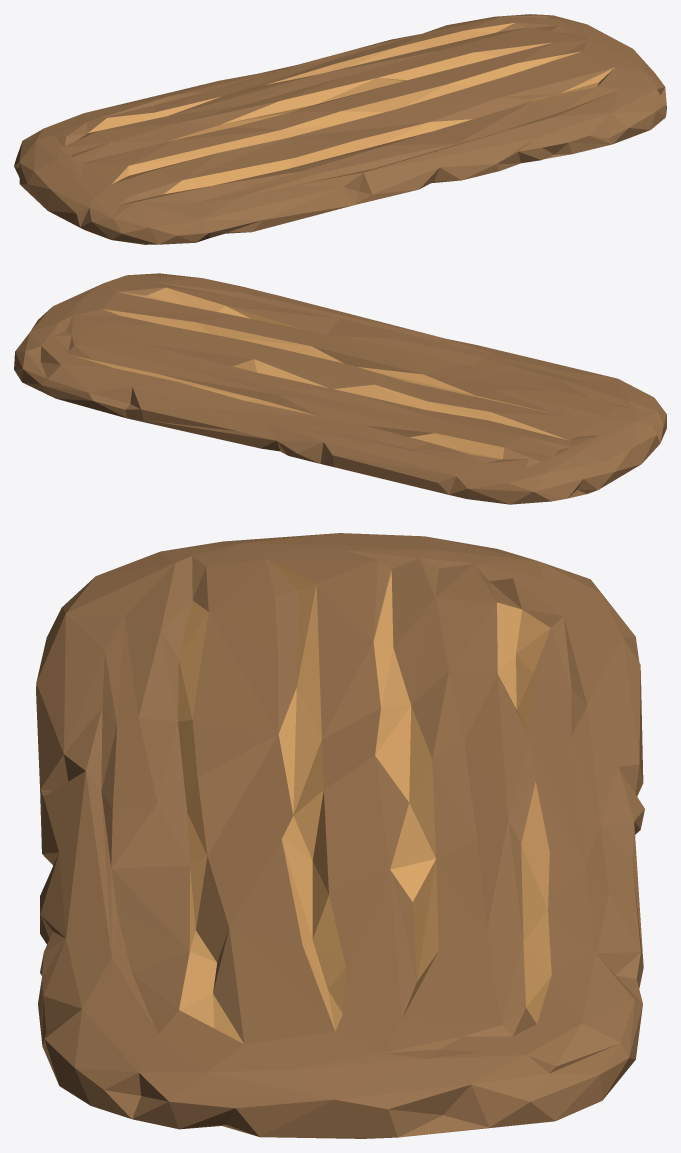
The model's file is bread 2.glb.
3 renders of one model, top to bottom at view 1: azimuth 30°, elevation 25°; view 2: azimuth 150°, elevation 25°; view 3: azimuth 270°, elevation 25°, orthographic. The views are drawn at different scales.
Parts seen in each view (by area): view 1: Cube; view 2: Cube; view 3: Cube.
Boxes of the visible parts, bbox=[...] form: Cube: bbox=[14, 14, 666, 244]; Cube: bbox=[14, 273, 666, 504]; Cube: bbox=[36, 533, 644, 1138].
Bounding box in the file's own units: 0.6872 × 0.0364 × 0.3078.
